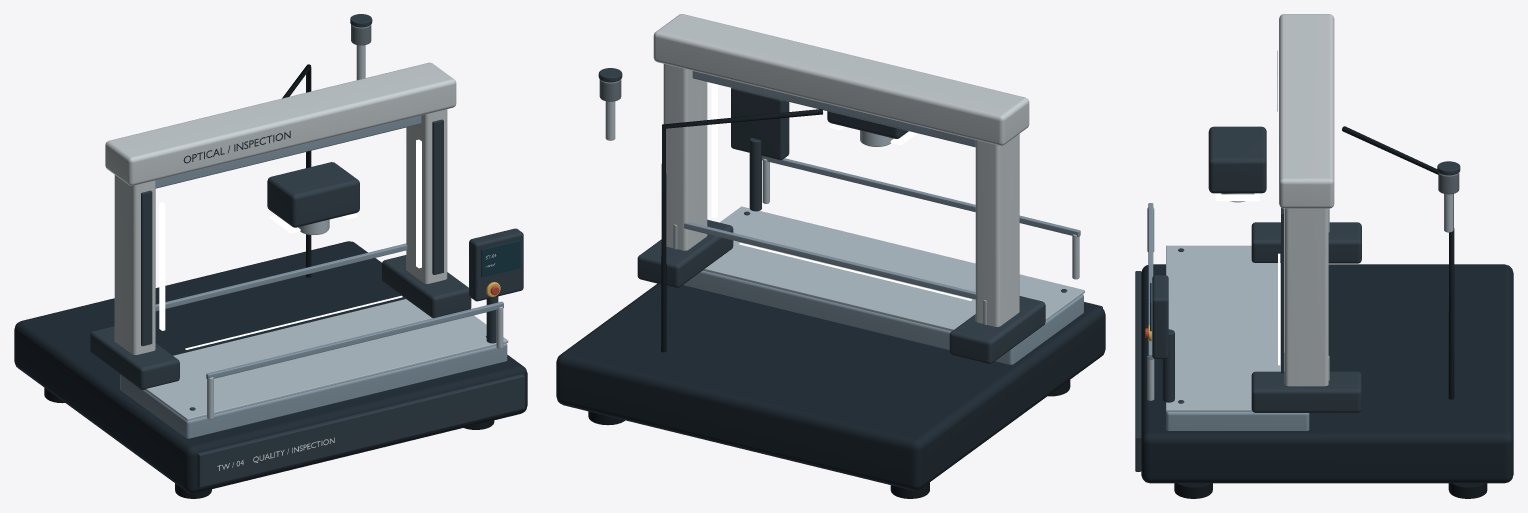
Rendered from inspection-gate.glb.
3 views of the same model, side by side, from view 1: azimuth 30°, elevation 25°; view 2: azimuth 150°, elevation 25°; view 3: azimuth 270°, elevation 25° (orthographic). The views are drawn at different scales.
Visible parts, largest first — view 1: inspection_gate_Cast_Base, inspection_gate_Enamel_Pearl, inspection_gate_Enamel_Graphite, inspection_gate_Machined_Steel, inspection_gate_Brushed_Aluminium, Scanner_Enamel_Graphite, inspection_gate_Work_Light, inspection_gate_Rubber_Seal, inspection_gate_Display_Glass; view 2: inspection_gate_Cast_Base, inspection_gate_Enamel_Pearl, inspection_gate_Machined_Steel, inspection_gate_Brushed_Aluminium, inspection_gate_Enamel_Graphite, inspection_gate_Rubber_Seal, inspection_gate_Work_Light, Scanner_Enamel_Graphite, InspectionSweep_Work_Light; view 3: inspection_gate_Cast_Base, inspection_gate_Enamel_Pearl, inspection_gate_Machined_Steel, inspection_gate_Enamel_Graphite, Scanner_Enamel_Graphite, inspection_gate_Brushed_Aluminium, inspection_gate_Rubber_Seal, inspection_gate_Status_Lens.
Boxes of the visible parts, x1,y1,x2,y2 form: inspection_gate_Cast_Base: (14, 241, 527, 493); inspection_gate_Enamel_Pearl: (105, 62, 456, 354); inspection_gate_Enamel_Graphite: (90, 14, 524, 487); inspection_gate_Machined_Steel: (145, 45, 508, 420); inspection_gate_Brushed_Aluminium: (120, 115, 507, 438); Scanner_Enamel_Graphite: (267, 162, 359, 227); inspection_gate_Work_Light: (159, 139, 421, 330); inspection_gate_Rubber_Seal: (44, 64, 494, 498); inspection_gate_Display_Glass: (481, 240, 520, 277); inspection_gate_Cast_Base: (556, 283, 1105, 490); inspection_gate_Enamel_Pearl: (653, 14, 1029, 326); inspection_gate_Machined_Steel: (605, 101, 1084, 331); inspection_gate_Brushed_Aluminium: (683, 71, 1083, 364); inspection_gate_Enamel_Graphite: (598, 68, 1102, 364); inspection_gate_Rubber_Seal: (588, 109, 1070, 498); inspection_gate_Work_Light: (711, 83, 717, 218); Scanner_Enamel_Graphite: (827, 111, 908, 138); InspectionSweep_Work_Light: (739, 243, 971, 300); inspection_gate_Cast_Base: (1141, 264, 1513, 483); inspection_gate_Enamel_Pearl: (1279, 14, 1334, 386); inspection_gate_Machined_Steel: (1147, 194, 1453, 411); inspection_gate_Enamel_Graphite: (1135, 161, 1460, 471); Scanner_Enamel_Graphite: (1208, 126, 1266, 193); inspection_gate_Brushed_Aluminium: (1148, 203, 1309, 430); inspection_gate_Rubber_Seal: (1174, 126, 1487, 498); inspection_gate_Status_Lens: (1438, 172, 1459, 194).
Size of the model in its own units: 3 by 2.63 by 2.75.
